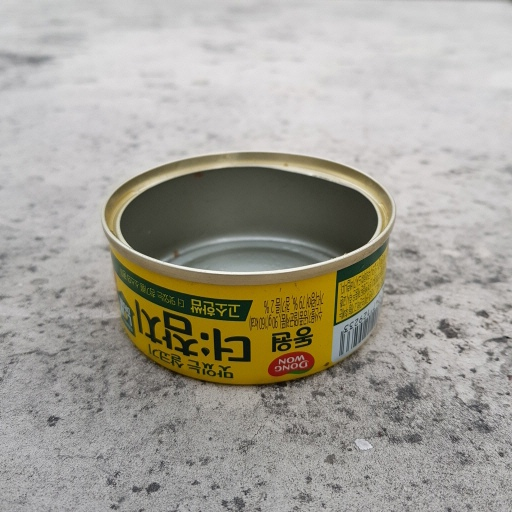Metal_1: (96, 147, 399, 388)
